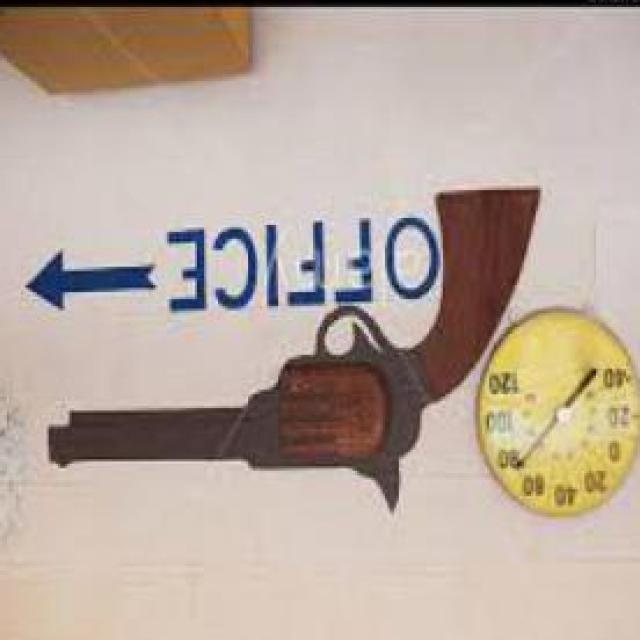pistol: (40, 194, 559, 538)
